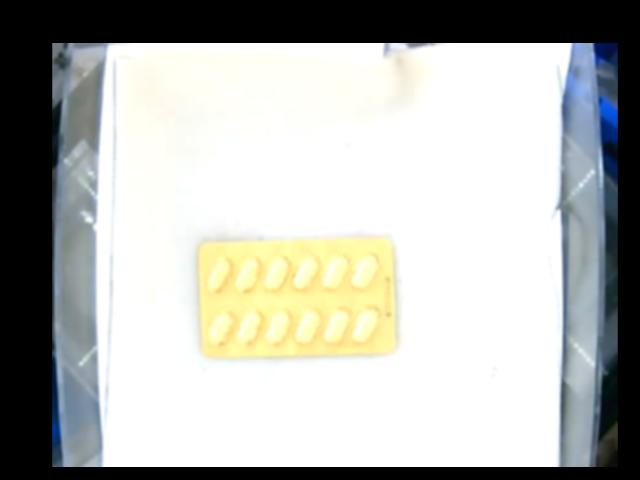Medicine: (196, 240, 395, 357)
